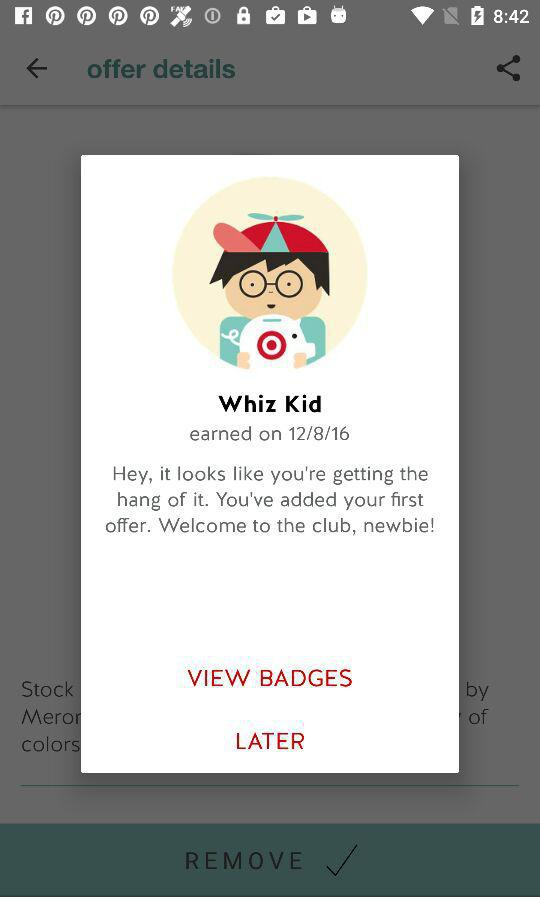Icon: (496, 55, 521, 83), (28, 58, 49, 80)
Image: (172, 177, 369, 370)
Modal: (82, 156, 460, 773)
Text: (106, 466, 434, 536), (88, 58, 236, 80), (188, 669, 353, 688), (190, 426, 350, 442), (218, 395, 322, 413), (237, 732, 305, 749)
TextButton: (1, 823, 540, 897)
UpperTaskBar: (1, 1, 540, 33)
